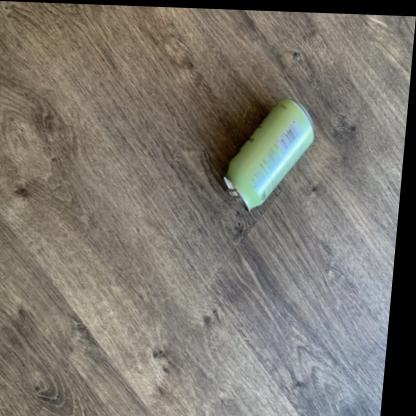trash: (224, 99, 313, 209)
